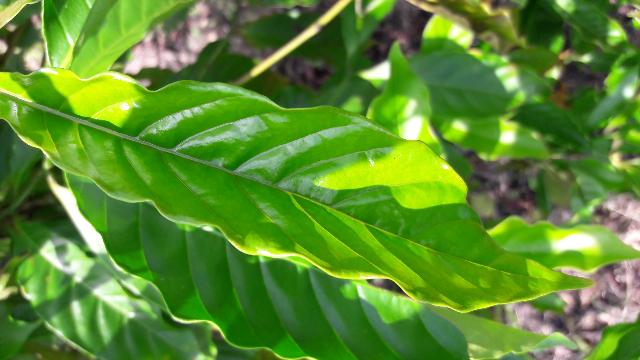healthy: (0, 70, 592, 314)
